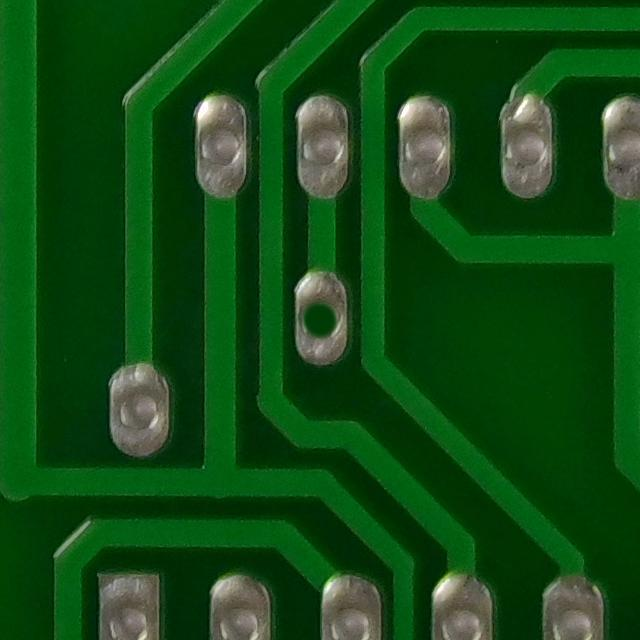missing_hole: (289, 279, 355, 358)
